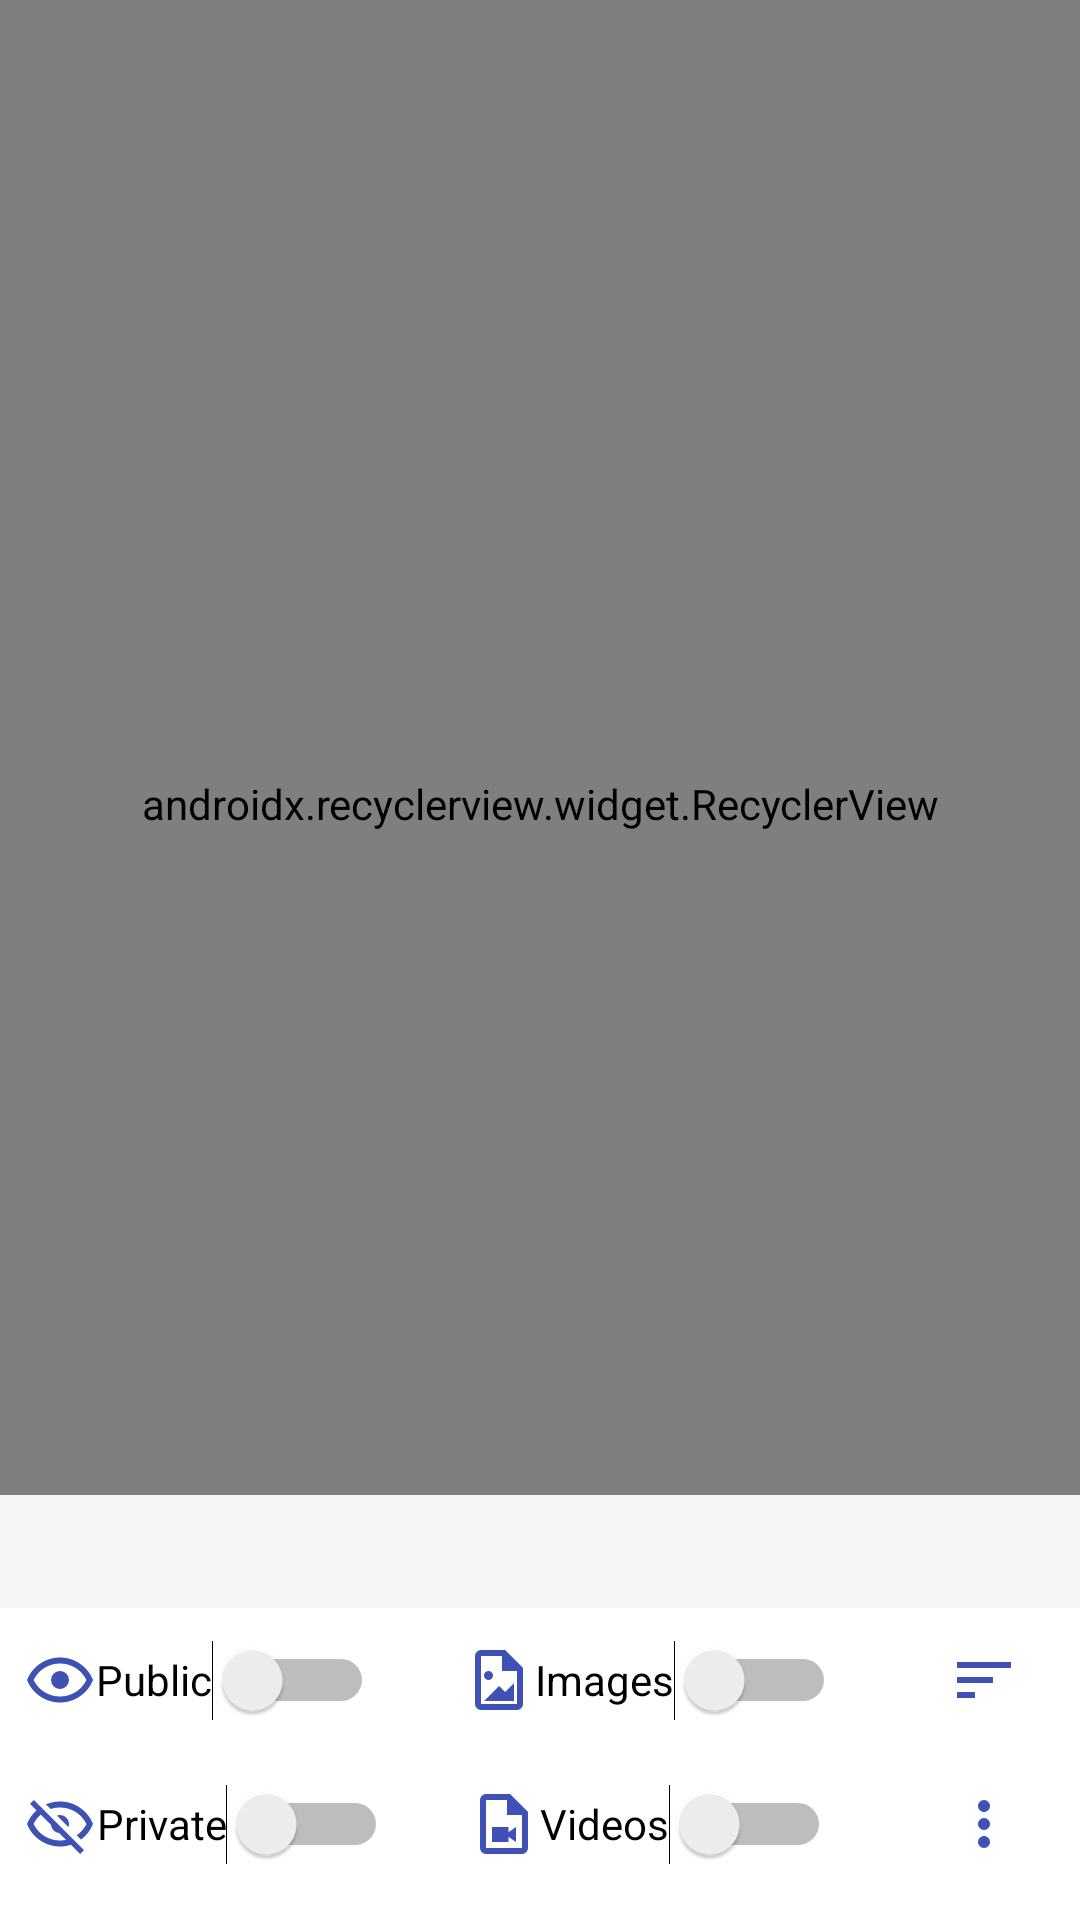

Screen size 1080x1920. Icon name, then its center in pixels as [x,y]:
dots vertical: [984,1824]
sort: [984,1680]
